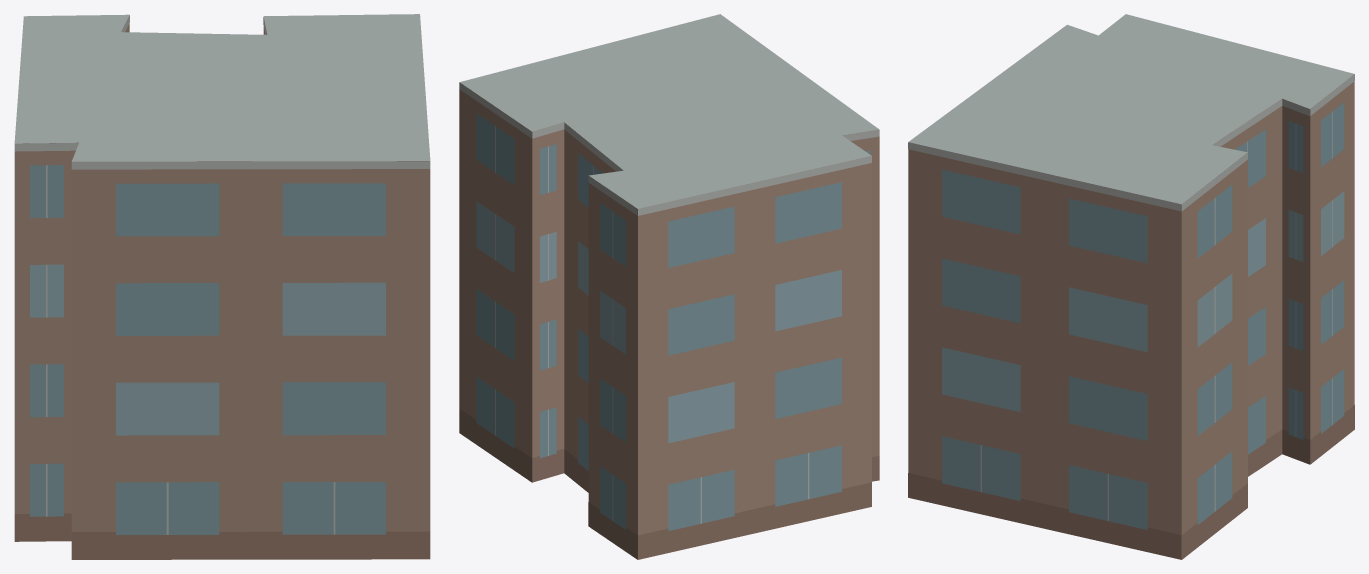
The model's file is survey-upis-32775914.glb.
3 renders of one model, left to right at view 1: azimuth 30°, elevation 25°; view 2: azimuth 150°, elevation 25°; view 3: azimuth 270°, elevation 25°, orthographic. The views are drawn at different scales.
Visible parts, largest first — view 1: survey-upis-32775914.tmp; view 2: survey-upis-32775914.tmp; view 3: survey-upis-32775914.tmp.
Part boxes in pixels (x1,y1,x2,y2): survey-upis-32775914.tmp: (14,14,430,559); survey-upis-32775914.tmp: (459,14,879,559); survey-upis-32775914.tmp: (908,14,1354,559).
Bounding box in the file's own units: 14.02 × 12.2 × 13.9.
